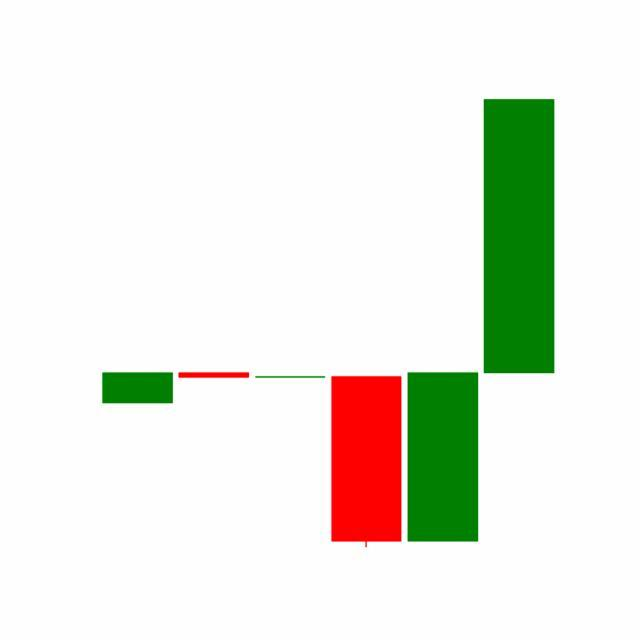Marubozu: (404, 372, 482, 545)
